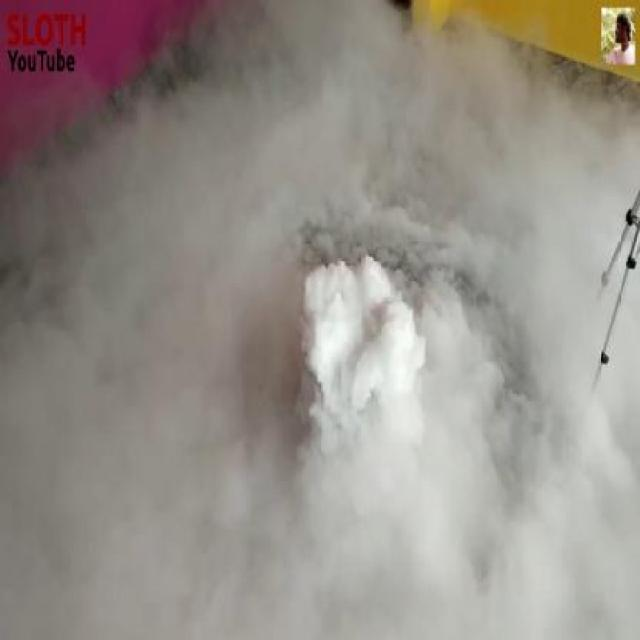smoke: (133, 132, 532, 591)
